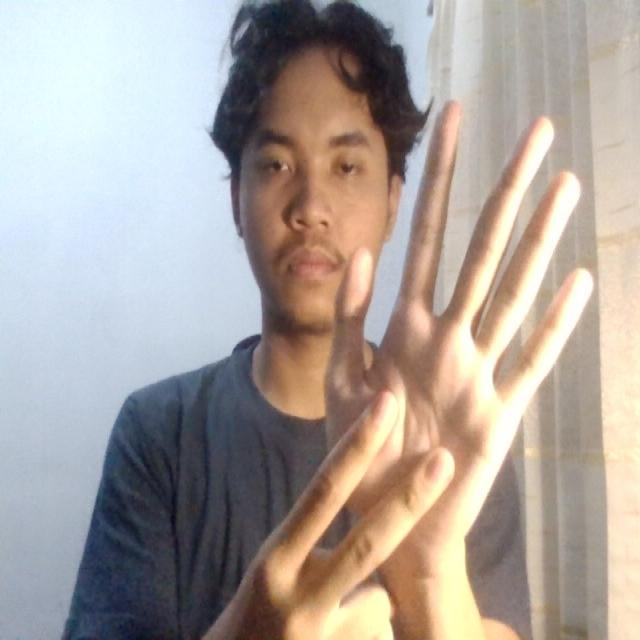IloveYou: (260, 92, 620, 608)
